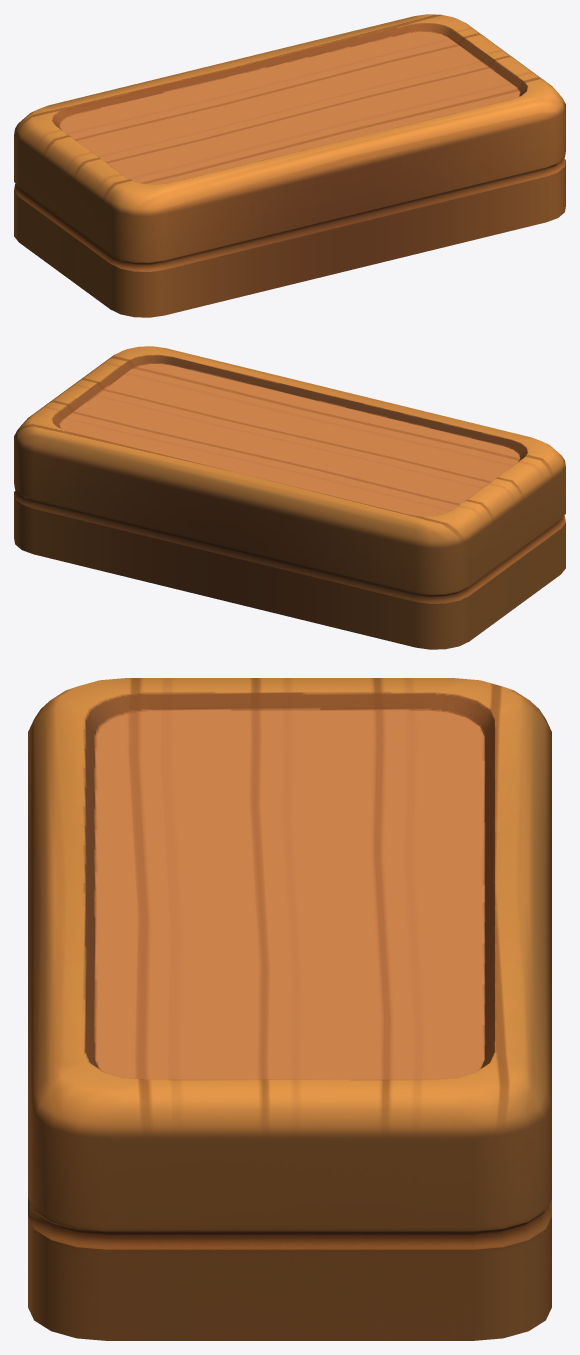
The model's file is model_TraySpec1x2.fbx.
The picture shows the model from 3 angles, top to bottom: view 1: azimuth 30°, elevation 25°; view 2: azimuth 150°, elevation 25°; view 3: azimuth 270°, elevation 25°; orthographic projection. The views are drawn at different scales.
Parts seen in each view (by area): view 1: model_TraySpec1x2; view 2: model_TraySpec1x2; view 3: model_TraySpec1x2.
Boxes of the visible parts, x1,y1,x2,y2 form: model_TraySpec1x2: (14,14,565,317); model_TraySpec1x2: (14,346,565,649); model_TraySpec1x2: (28,678,551,1340).
Size of the model in its own units: 199 by 49.5 by 100.
